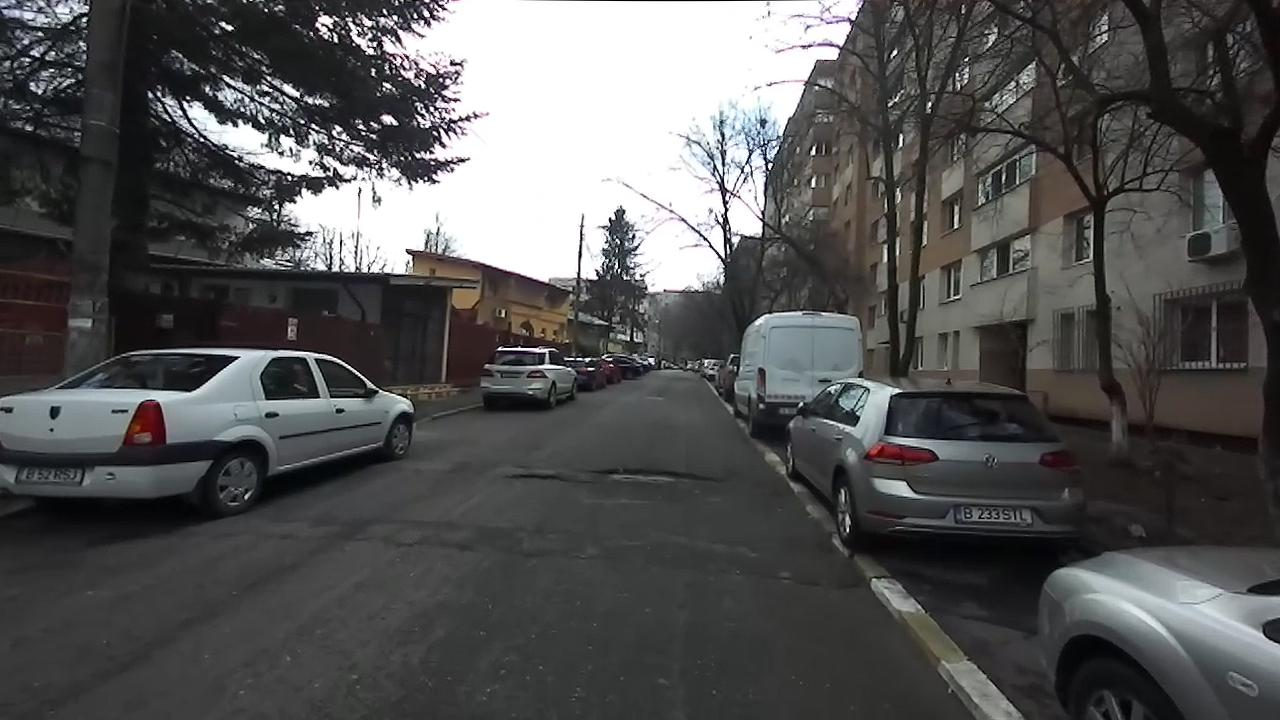pothole: (588, 462, 724, 486), (776, 571, 859, 594), (504, 469, 580, 484)
